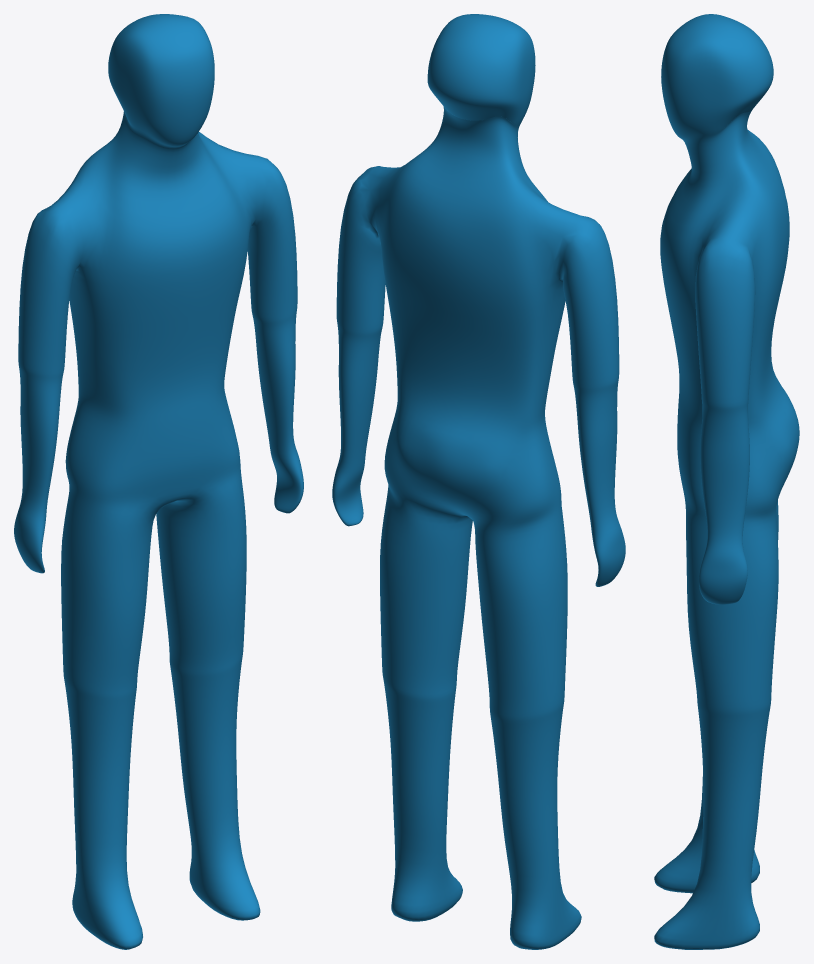
Rendered from human.export.gltf.
3 views of the same model, side by side, from view 1: azimuth 30°, elevation 25°; view 2: azimuth 150°, elevation 25°; view 3: azimuth 270°, elevation 25° (orthographic).
Visible parts, largest first — view 1: Roundcube.003; view 2: Roundcube.003; view 3: Roundcube.003.
Part boxes in pixels (x1,y1,x2,y2): Roundcube.003: (14,14,303,949); Roundcube.003: (332,14,625,949); Roundcube.003: (654,14,799,949).
Bounding box in the file's own units: 0.5693 × 1.76 × 0.2597.
